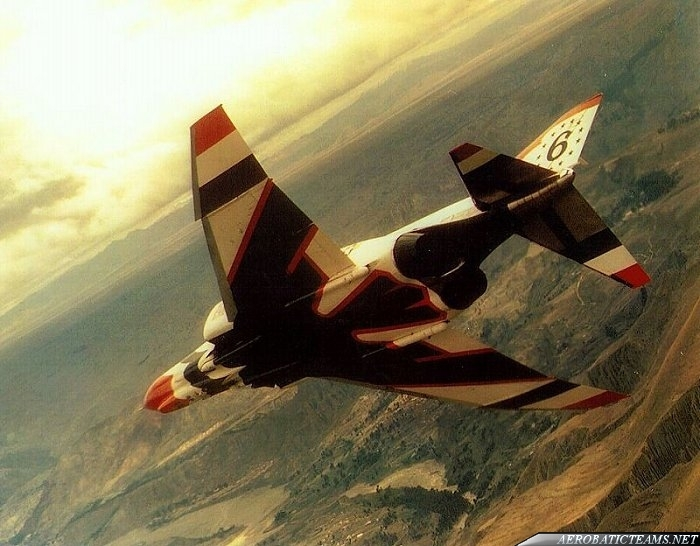F4: (135, 90, 652, 414)
